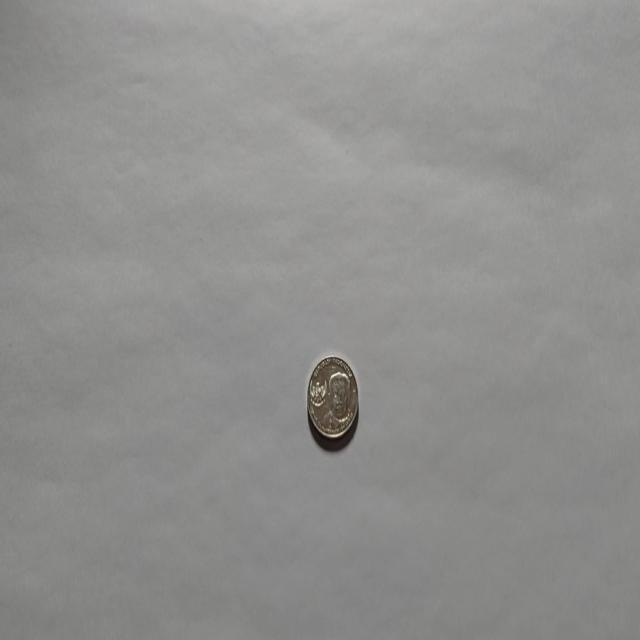seratus rupiah: (306, 354, 358, 441)
